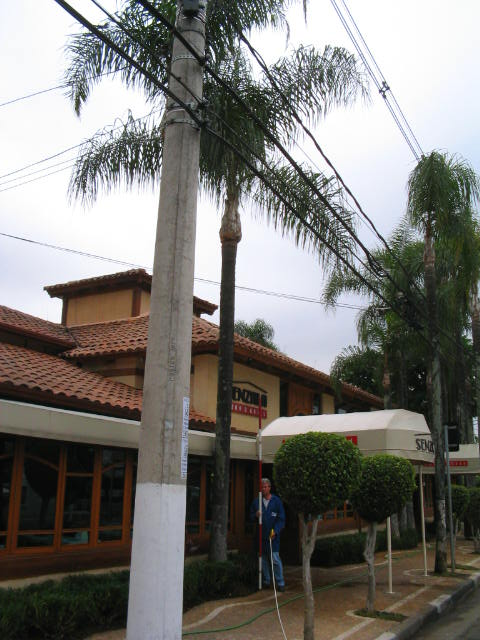crown: (58, 1, 370, 277), (332, 153, 477, 394)
stem: (199, 229, 248, 594), (417, 350, 467, 571)
stick: (249, 393, 270, 589)
tree: (55, 1, 373, 595), (329, 152, 477, 571)
